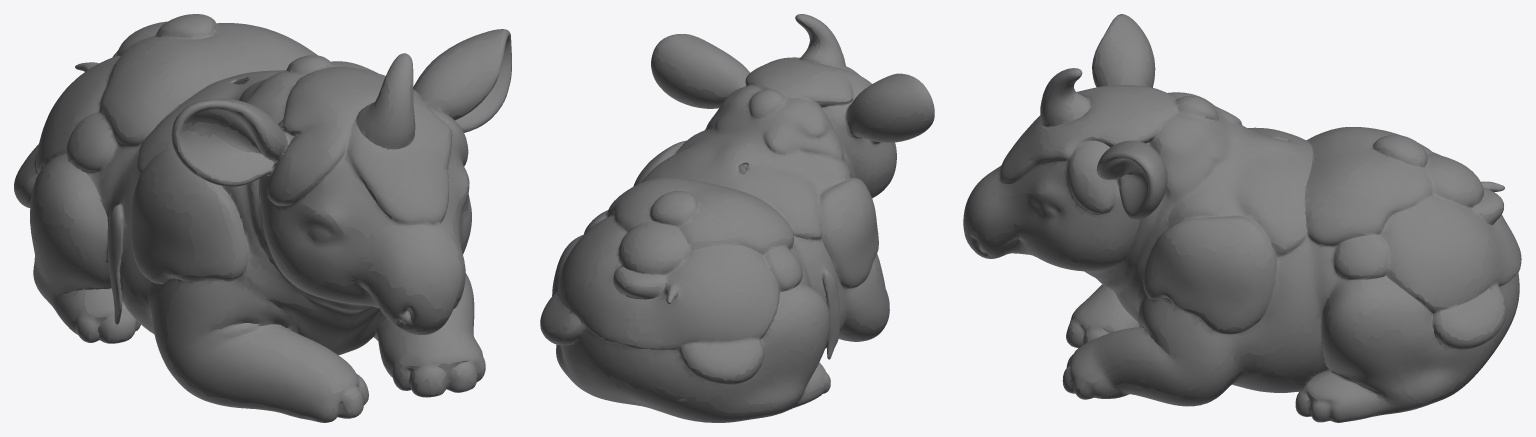
The model's file is completion_tapir_0.glb.
3 renders of one model, left to right at view 1: azimuth 30°, elevation 25°; view 2: azimuth 150°, elevation 25°; view 3: azimuth 270°, elevation 25°, orthographic. The views are drawn at different scales.
Parts seen in each view (by area): view 1: geometry_0; view 2: geometry_0; view 3: geometry_0.
Boxes of the visible parts, x1,y1,x2,y2 form: geometry_0: [14, 14, 511, 422]; geometry_0: [540, 14, 934, 422]; geometry_0: [963, 14, 1521, 422].
Size of the model in its own units: 0.6293 by 0.601 by 1.
Materials: 1 (1 with a texture image).
